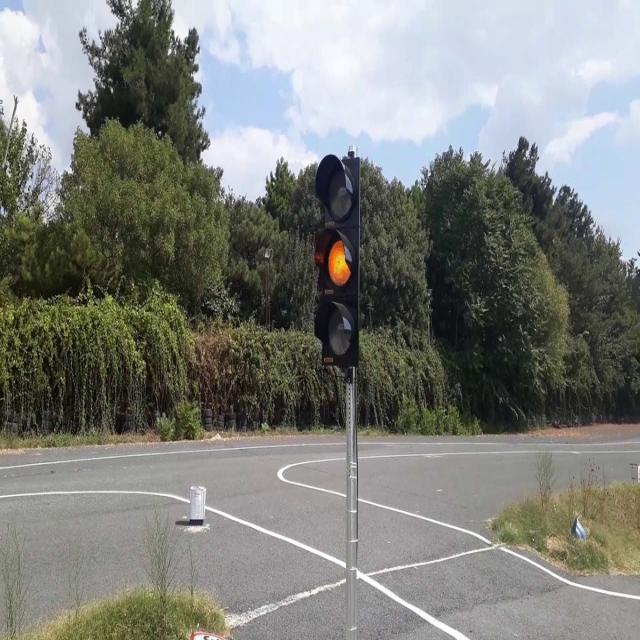sari: (316, 158, 356, 364)
